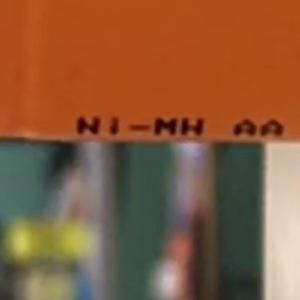keyword: (67, 108, 213, 145)
